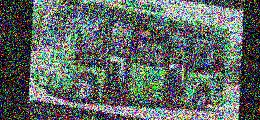bus: (30, 0, 237, 120)
